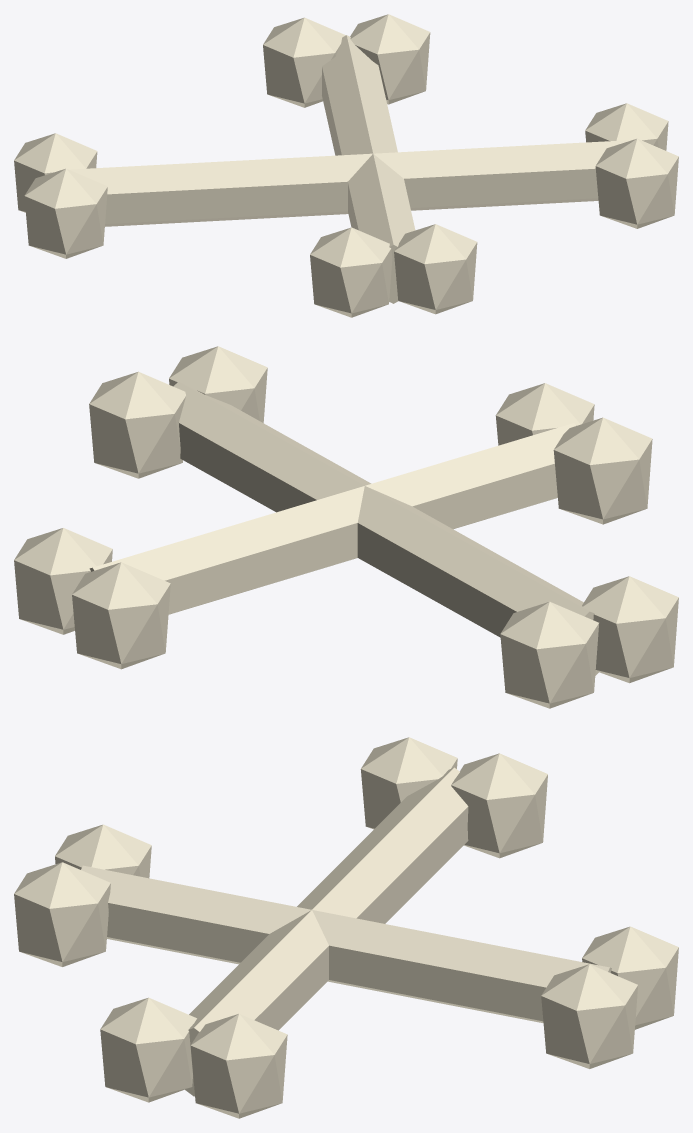
Rendered from drop_bones.glb.
The picture shows the model from 3 angles, top to bottom: view 1: azimuth 30°, elevation 25°; view 2: azimuth 150°, elevation 25°; view 3: azimuth 270°, elevation 25°; orthographic projection. The views are drawn at different scales.
Parts seen in each view (by area): view 1: drop_bones; view 2: drop_bones; view 3: drop_bones.
Boxes of the visible parts, bbox=[...] form: drop_bones: bbox=[14, 14, 678, 317]; drop_bones: bbox=[14, 346, 678, 708]; drop_bones: bbox=[14, 737, 678, 1118].
Bounding box in the file's own units: 0.3385 × 0.052 × 0.2982.
